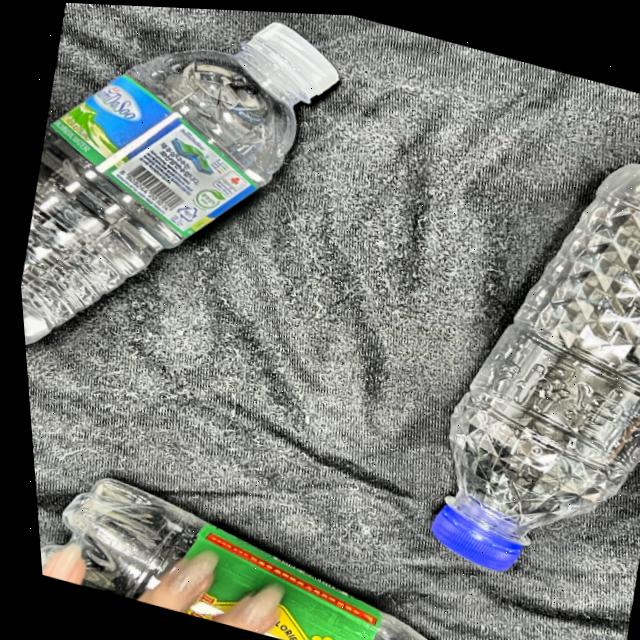plastic: (368, 122, 640, 604), (17, 6, 387, 356), (31, 442, 456, 640)
